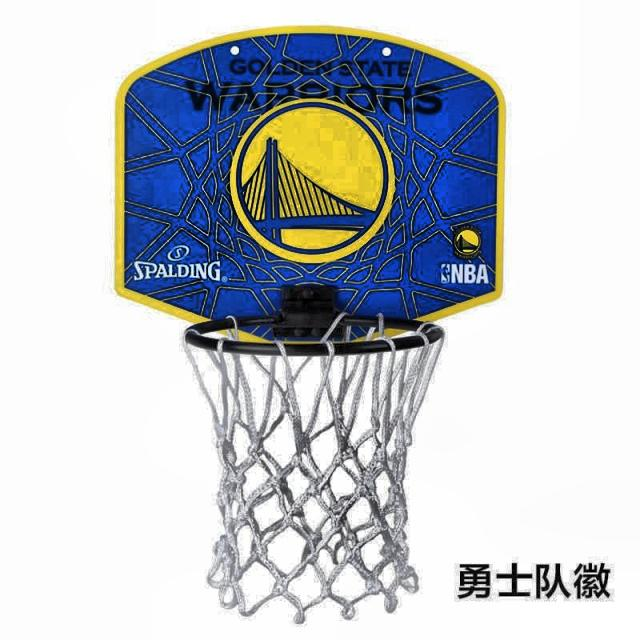rim: (186, 314, 444, 622)
